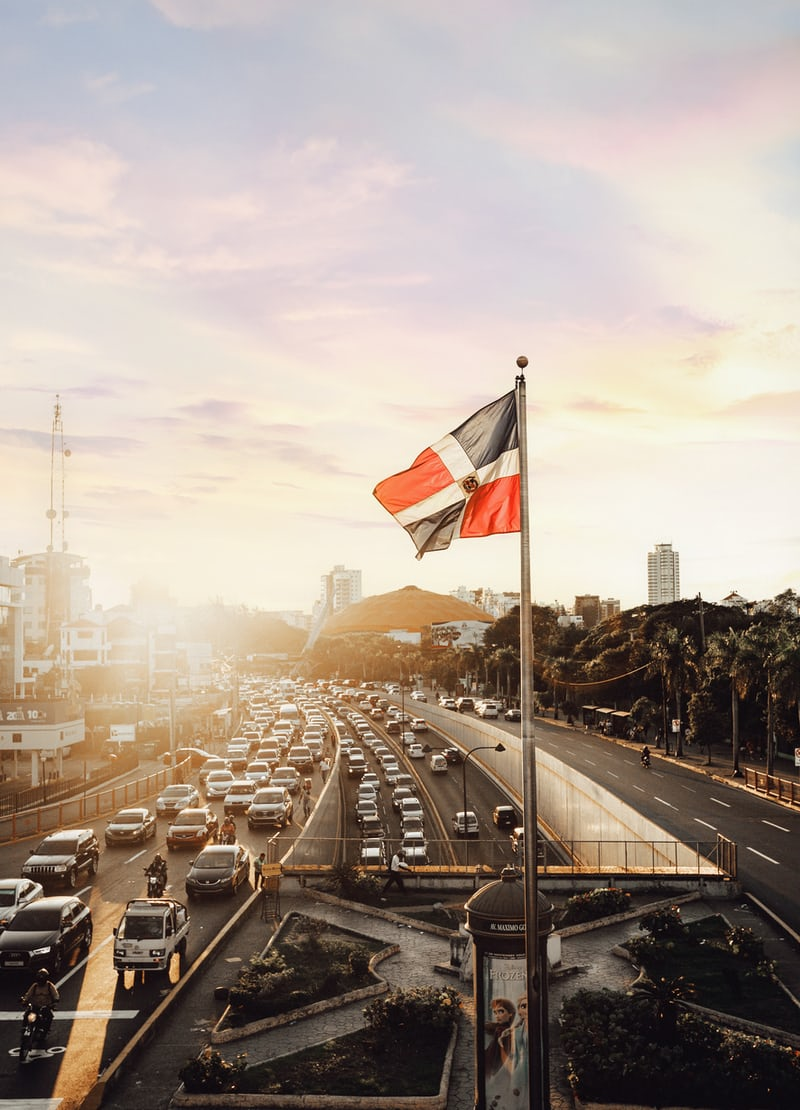Flag: (372, 387, 531, 563)
